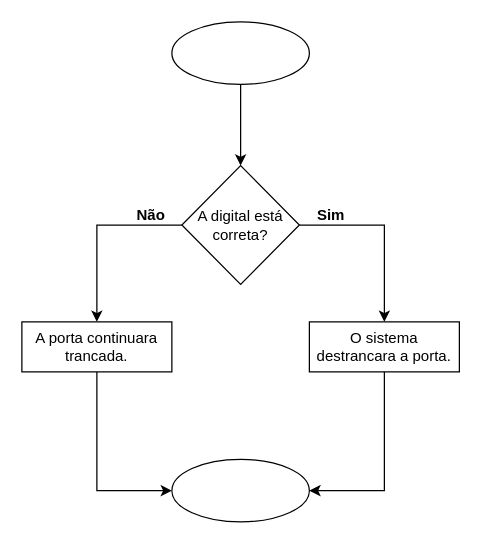
Image size: 481x544. Some labels were removed from this diagram. Here are the shapes that lost their labels. From the top down, the centre of each, then its label:
the point at 240,52: Inicio
the point at 240,490: Fim
